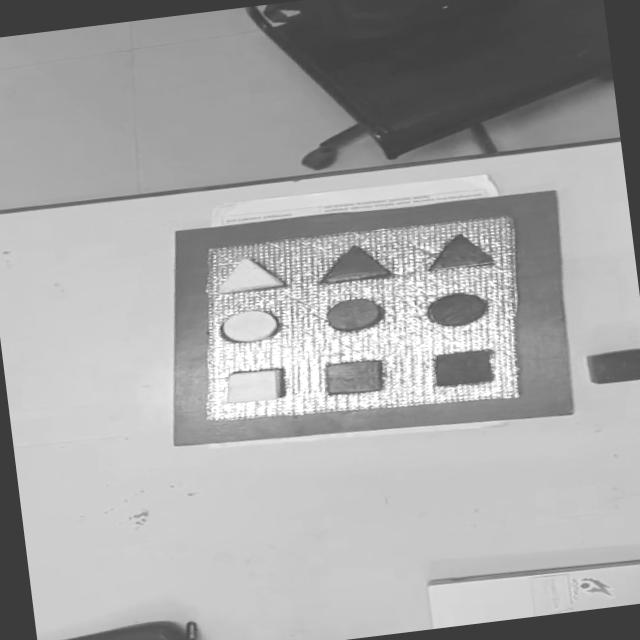bcircle: (424, 288, 490, 328)
bcube: (586, 344, 640, 386)
btriangle: (424, 229, 494, 273)
mtcube: (428, 346, 496, 389)
rcircle: (322, 294, 384, 334)
rcube: (320, 356, 386, 398)
rtriangle: (316, 240, 390, 284)
wb: (185, 210, 538, 434)
ycircle: (217, 305, 280, 345)
ycube: (222, 365, 288, 406)
ytriangle: (210, 252, 286, 296)
